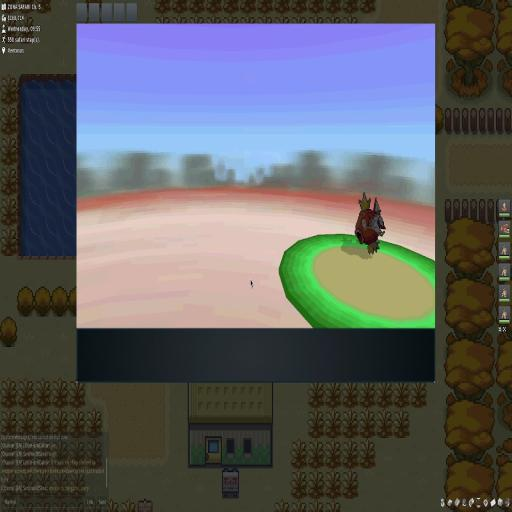MAGIKARP: (351, 190, 384, 258)
